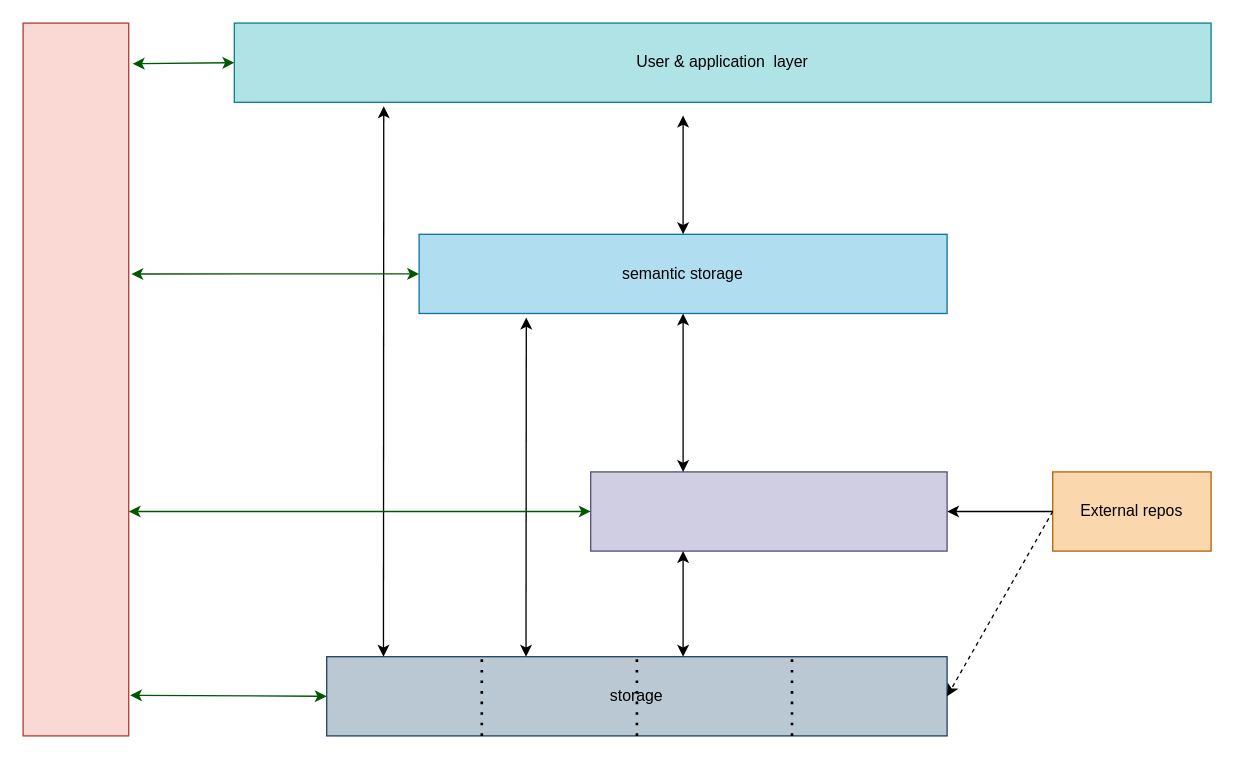
Some shapes in this 1234 by 762 pixel diagram are drawn without their labels. The shapes that lost their labels are listed below. From the top down, each one's box as (x1, y1, x2, y2) in pixels, then its label:
(22, 22, 129, 736): AAI
(589, 471, 947, 551): mediation layer
